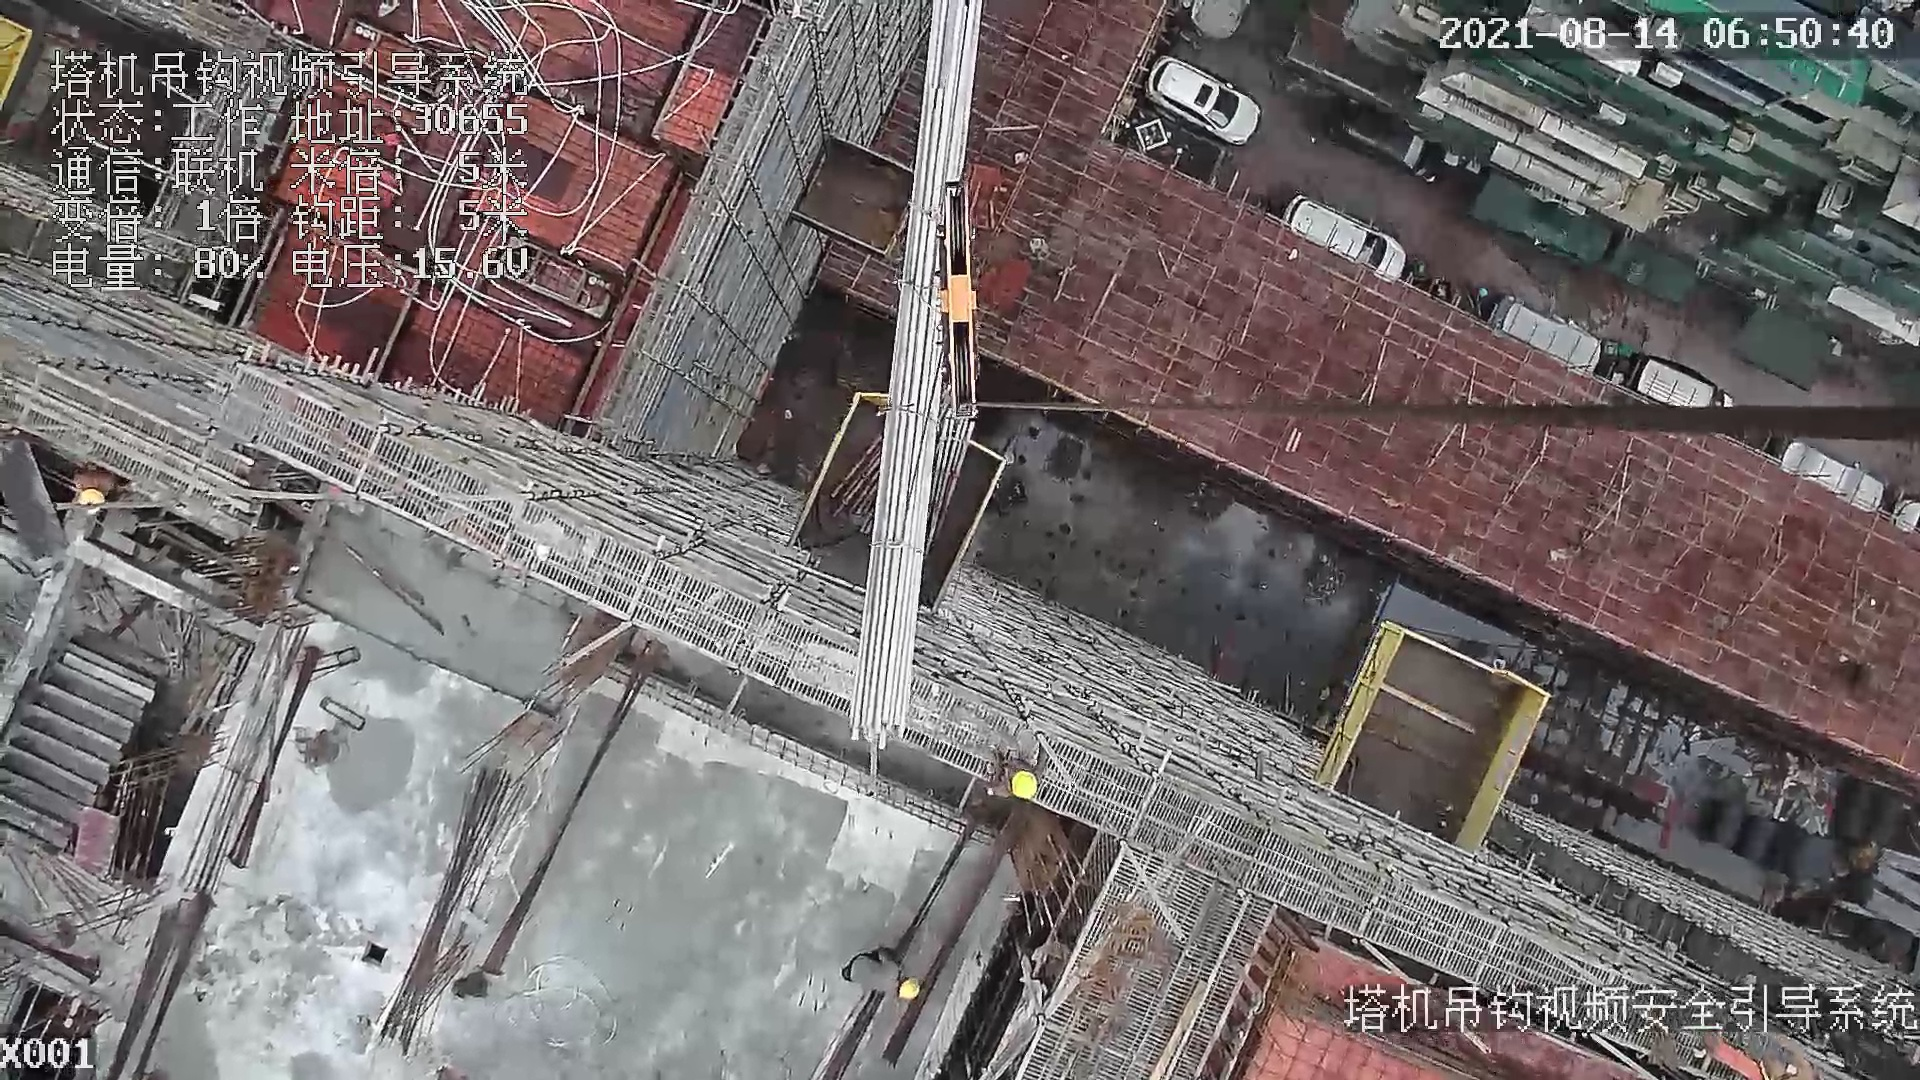helmet: (1007, 764, 1042, 806), (890, 971, 924, 1002)
hook: (915, 181, 994, 421)
person: (832, 941, 923, 1005), (977, 737, 1049, 815)
